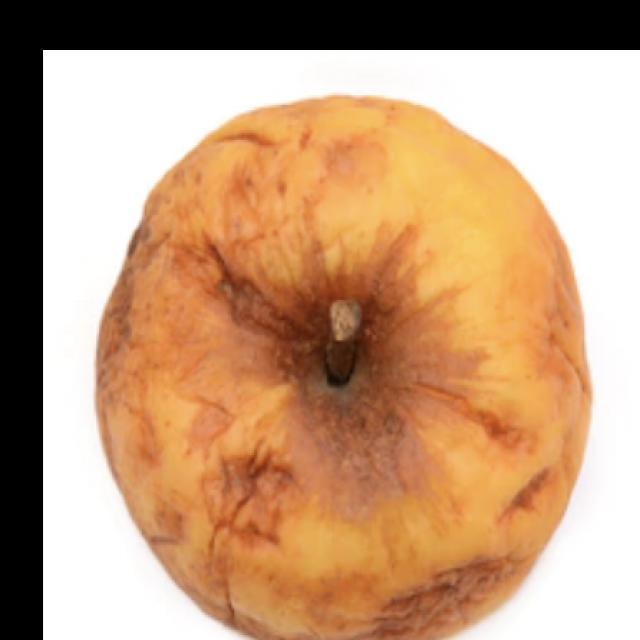Rotten: (98, 105, 587, 640)
